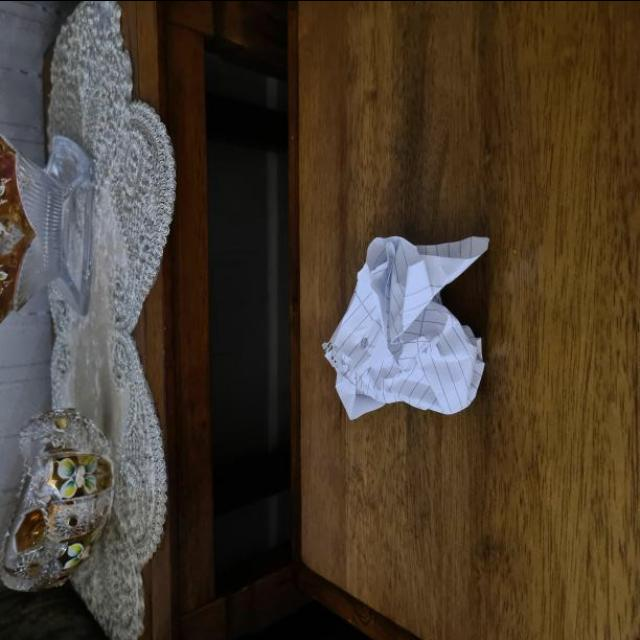cardboard paper: (321, 234, 487, 416)
